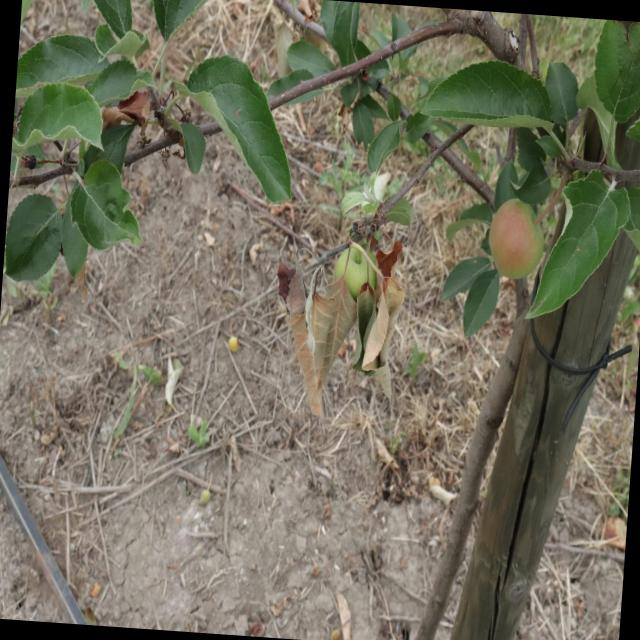-FireBlight-: (352, 215, 406, 392)
